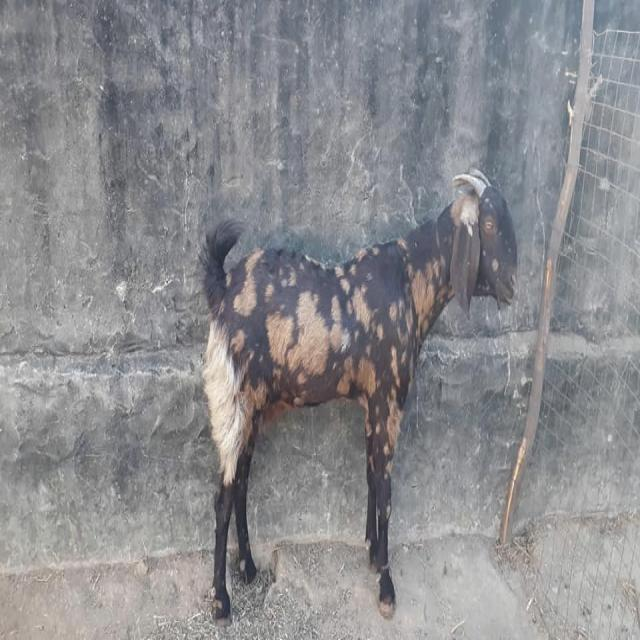Goat: (199, 165, 519, 626)
